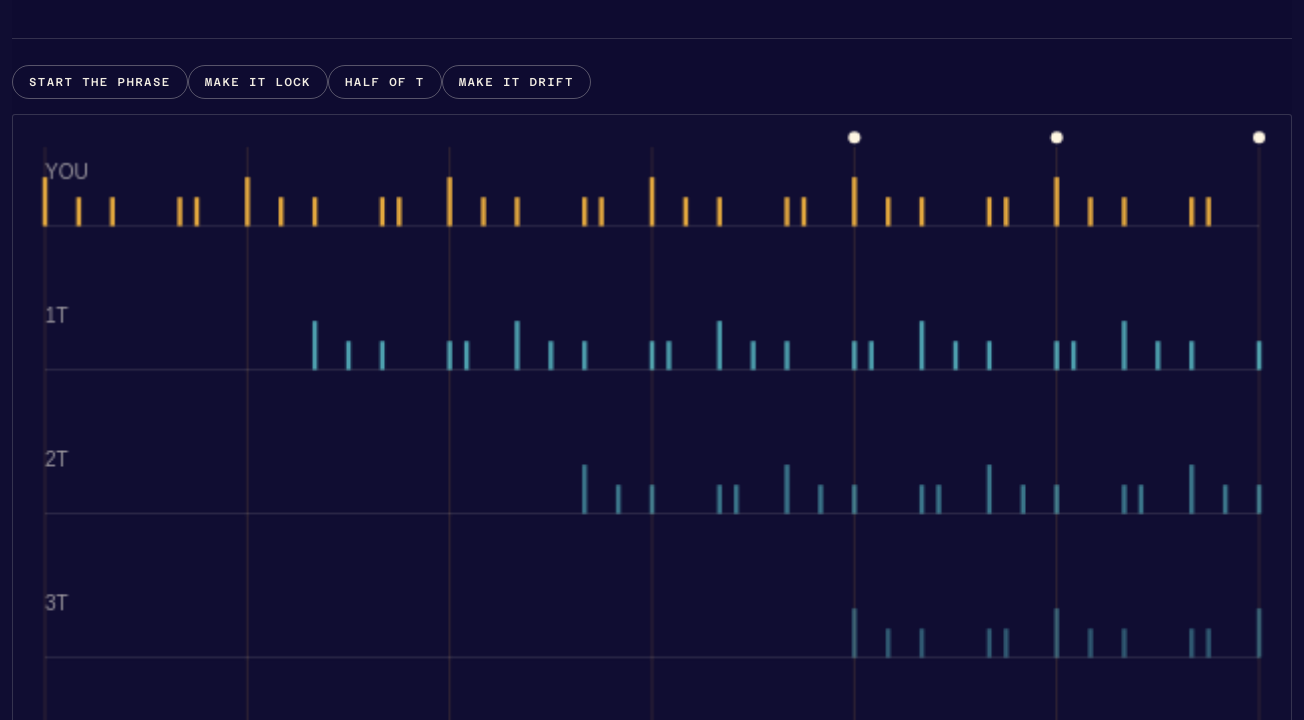
it: Canon › starting the phrase boots the rig with the canon patch and schedules notes
The width and height of the screenshot is (1304, 720).
Click the button "Start the phrase" at (100, 82), box left=12, top=65, right=188, bottom=99
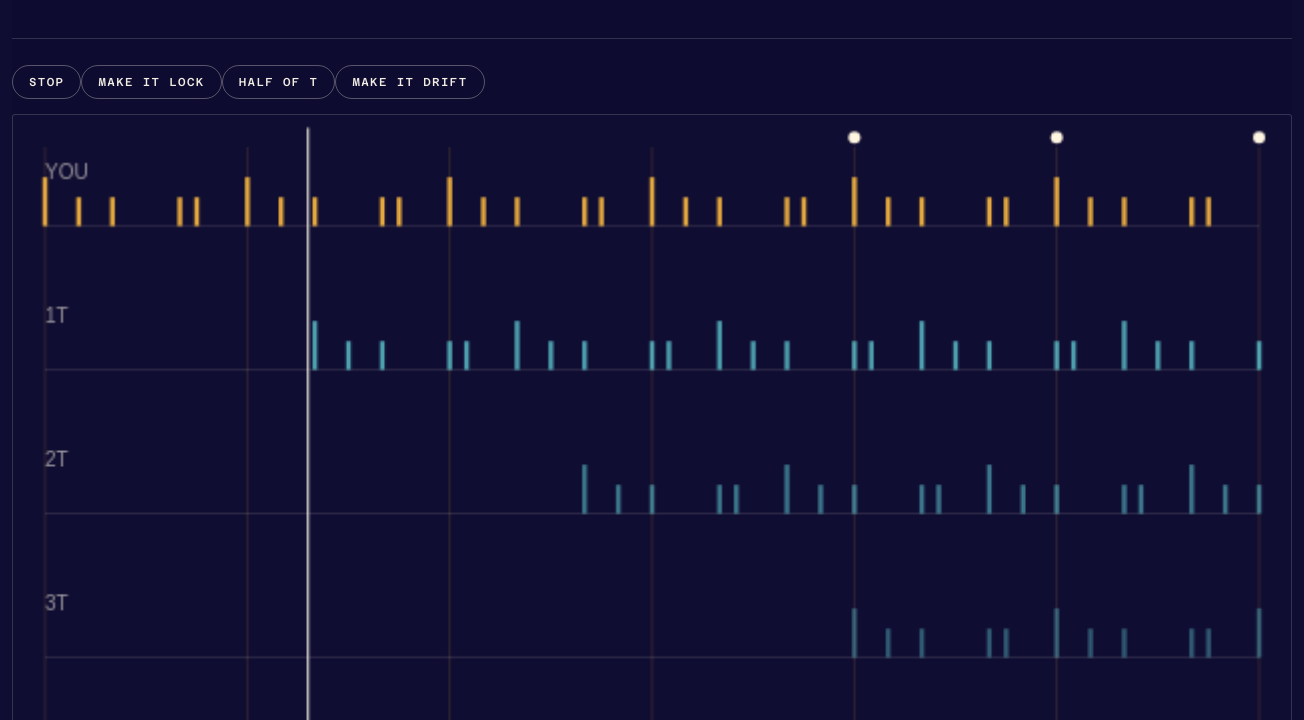
Result: the button "Stop" is shown at left=12, top=65, right=81, bottom=99
